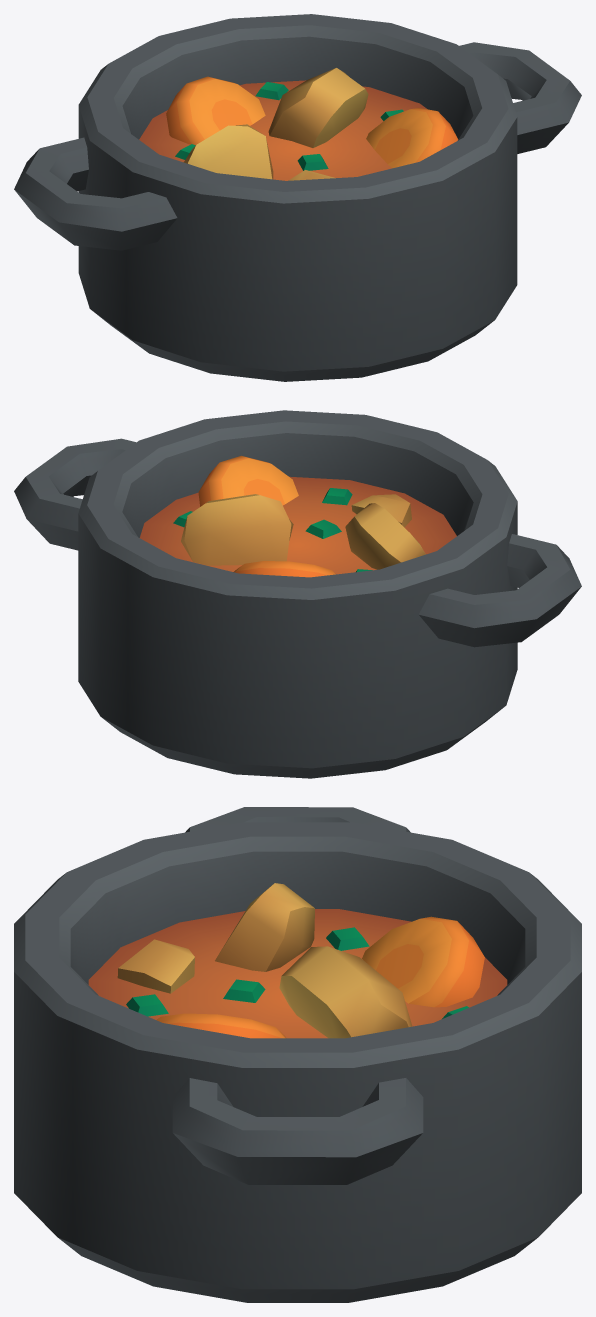
Rendered from kay-pot_b_stew.glb.
3 renders of one model, top to bottom at view 1: azimuth 30°, elevation 25°; view 2: azimuth 150°, elevation 25°; view 3: azimuth 270°, elevation 25°, orthographic. The views are drawn at different scales.
Parts seen in each view (by area): view 1: pot_B_stew; view 2: pot_B_stew; view 3: pot_B_stew.
Boxes of the visible parts, <box> form: pot_B_stew: <box>14,14,581,381</box>; pot_B_stew: <box>14,410,581,778</box>; pot_B_stew: <box>14,807,581,1302</box>.
Bounding box in the file's own units: 0.22 × 0.0811 × 0.1571.
Materials: 1 (1 with a texture image).
